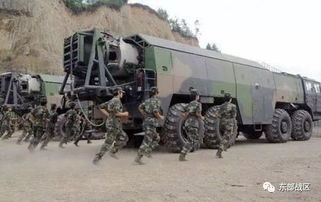10+: (1, 85, 239, 163)
